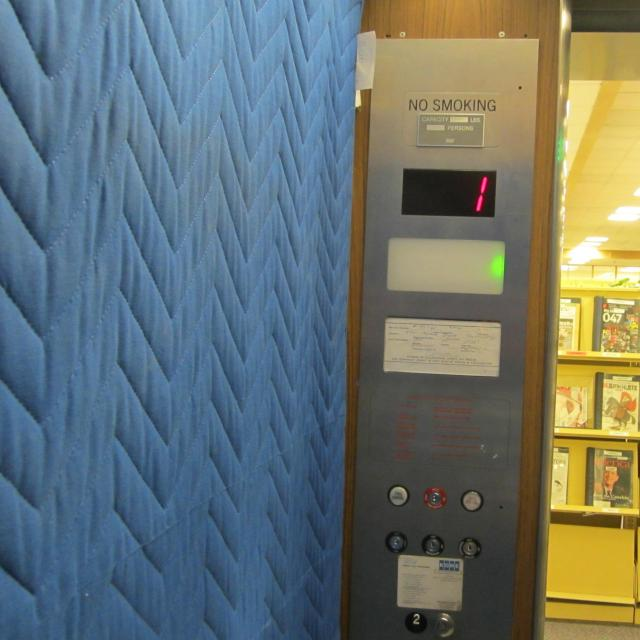2: (404, 610, 428, 632)
empty: (429, 612, 455, 637)
keyhole: (384, 530, 408, 554), (423, 486, 447, 509), (457, 537, 482, 559), (422, 534, 444, 556)
led: (401, 168, 496, 218)
text: (387, 484, 410, 506)
unknown: (461, 490, 484, 512)
